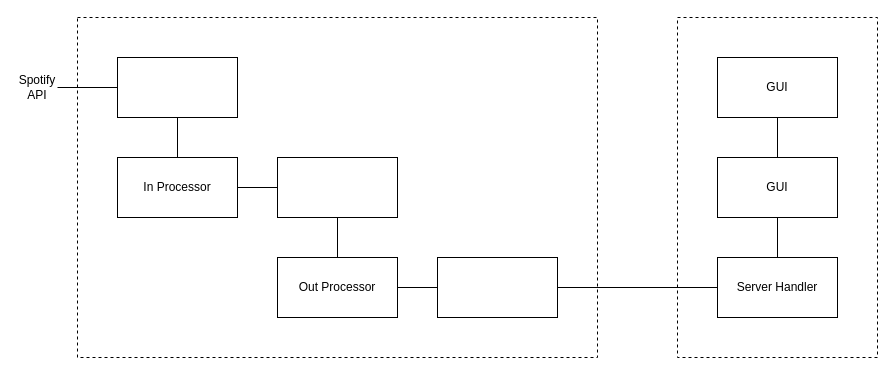
Some shapes in this 895 by 375 pixel diagram are drawn without their labels. Each missing label, with the box of its shape:
Client Handler: (436, 256, 558, 318)
Data Store: (276, 156, 398, 218)
Spotify Monitor: (116, 56, 238, 118)
